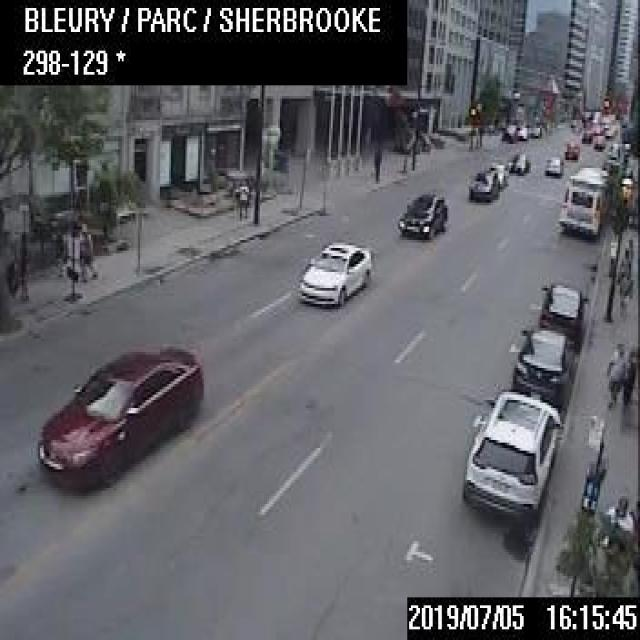bus: (558, 165, 607, 235)
pedestrian: (604, 493, 638, 536), (604, 342, 624, 406), (76, 221, 96, 280), (622, 341, 638, 411), (618, 271, 631, 314), (235, 178, 248, 218), (371, 142, 382, 180), (618, 247, 629, 275), (625, 236, 633, 258)
vehicle: (36, 344, 204, 490), (460, 387, 561, 520), (510, 325, 573, 405), (296, 238, 370, 304), (536, 280, 588, 346), (396, 190, 449, 239), (466, 169, 496, 200), (507, 150, 529, 172), (488, 162, 508, 183), (544, 155, 562, 174), (564, 139, 578, 158), (501, 122, 515, 138), (514, 124, 527, 138), (593, 133, 605, 148), (581, 128, 590, 142)
